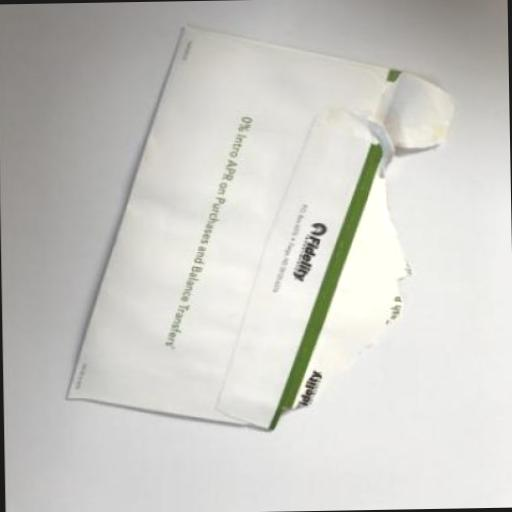paper: (54, 21, 456, 434)
